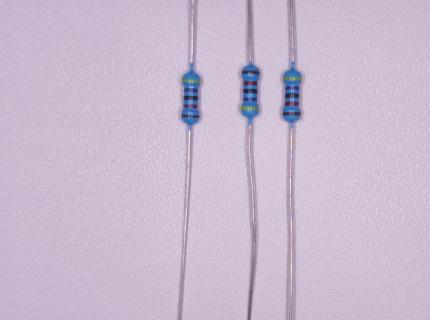Black band: (285, 93, 299, 98), (183, 96, 198, 100), (244, 89, 257, 93)
Brown band: (182, 115, 200, 118), (242, 71, 259, 74), (283, 112, 300, 115)
Red band: (285, 101, 299, 106), (244, 81, 257, 86), (184, 104, 197, 108)
Violet band: (183, 88, 197, 92), (243, 98, 257, 101), (286, 86, 299, 89)
Yellow band: (183, 79, 200, 83), (283, 77, 301, 80), (241, 107, 259, 110)
